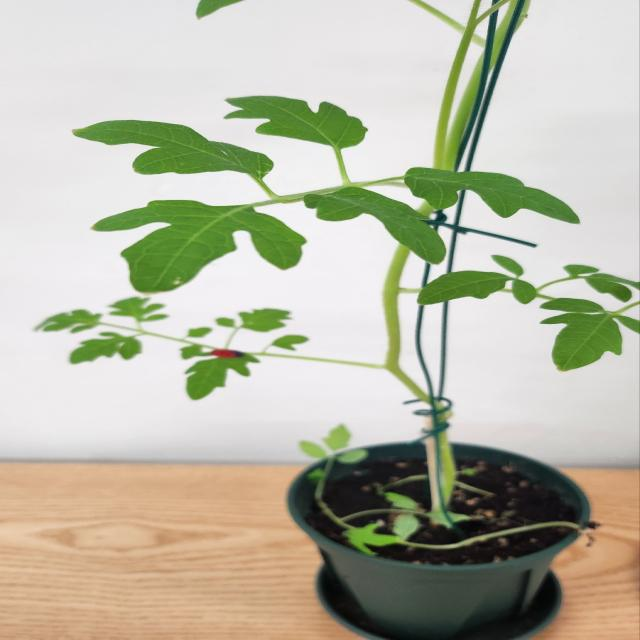bug: (191, 340, 256, 370)
